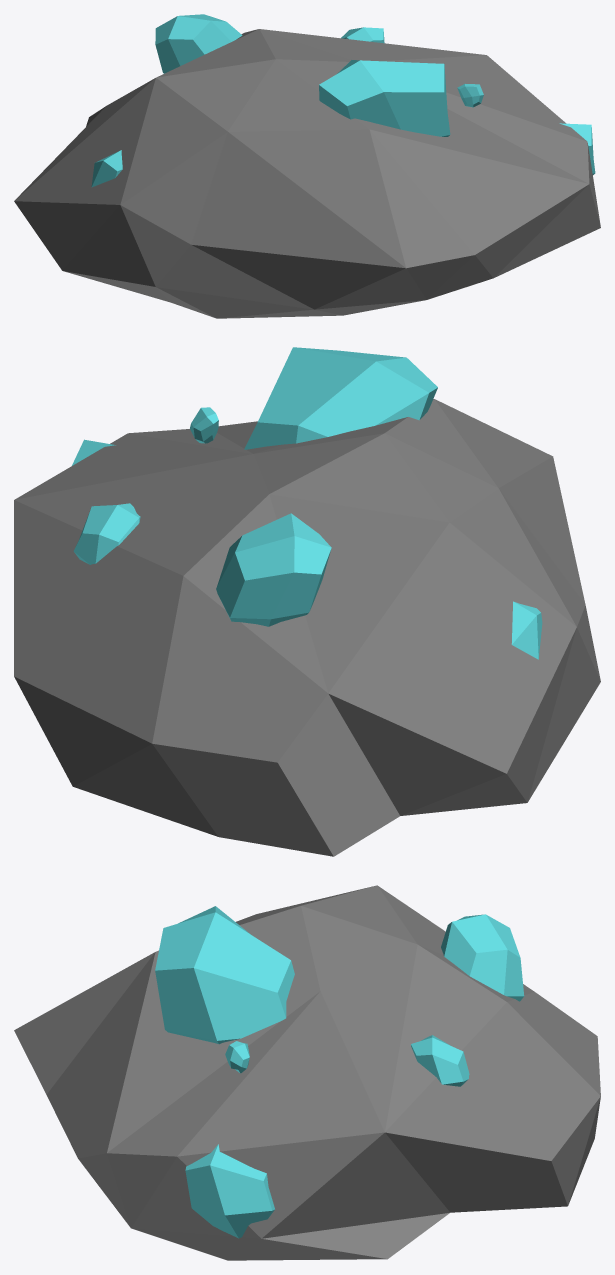
File: minerai diamand.fbx
3 views of the same model, one above another, from view 1: azimuth 30°, elevation 25°; view 2: azimuth 150°, elevation 25°; view 3: azimuth 270°, elevation 25° (orthographic). The views are drawn at different scales.
Visible parts, largest first — view 1: Icosphere, Cube.001, Cube, Cube.003, Cube.004, Cube.005, Cube.002; view 2: Icosphere, Cube.001, Cube, Cube.004, Cube.003, Cube.005; view 3: Icosphere, Cube.001, Cube.002, Cube, Cube.004, Cube.005.
Part boxes in pixels (x1,y1,x2,y2): Icosphere: (14,29,600,318); Cube.001: (319,60,450,136); Cube: (155,14,242,73); Cube.003: (91,150,122,187); Cube.004: (341,27,384,43); Cube.005: (457,84,483,107); Cube.002: (559,123,595,174); Icosphere: (14,399,600,856); Cube.001: (244,347,437,449); Cube: (216,513,331,626); Cube.004: (73,503,140,564); Cube.003: (511,601,542,659); Cube.005: (190,407,218,443); Icosphere: (14,885,600,1260); Cube.001: (155,906,294,1044); Cube.002: (185,1144,274,1238); Cube: (441,914,524,1001); Cube.004: (411,1035,469,1086); Cube.005: (225,1041,249,1073).
Size of the model in its own units: 61.77 by 32.3 by 61.88.
